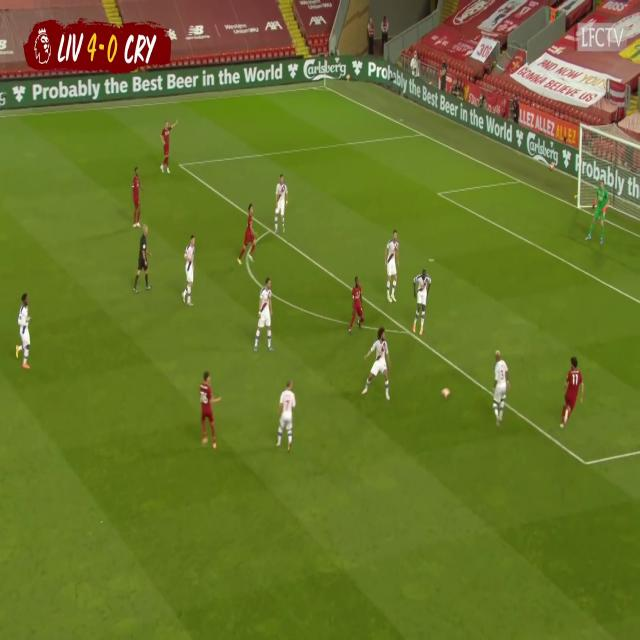Ball: (441, 390, 451, 400)
GoalKeeper: (586, 183, 611, 246)
TEAM 1: (561, 357, 586, 432), (198, 370, 220, 452), (238, 194, 259, 266), (348, 276, 365, 333), (160, 121, 176, 176), (131, 166, 145, 228)
TEAM 2: (360, 327, 391, 400), (275, 378, 298, 454), (252, 278, 274, 357), (494, 350, 512, 425), (15, 291, 32, 369), (413, 270, 431, 334), (183, 233, 198, 306), (387, 232, 400, 303), (274, 174, 289, 232)
